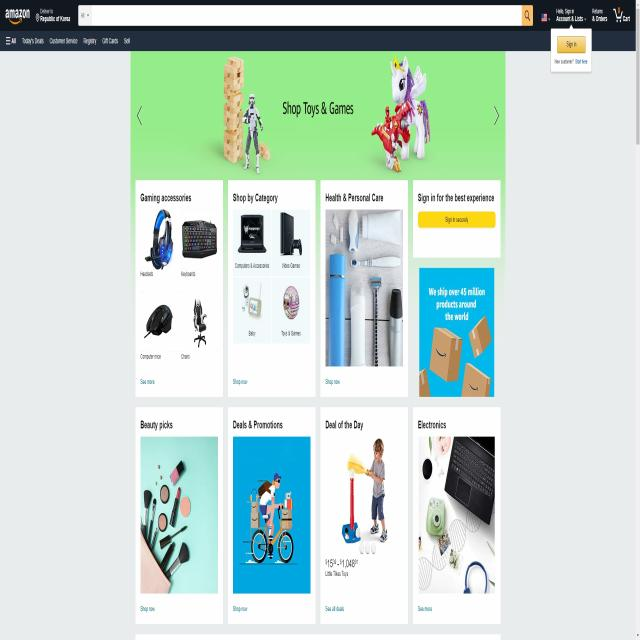search: (77, 2, 534, 27)
tab-bar: (3, 31, 133, 49)
